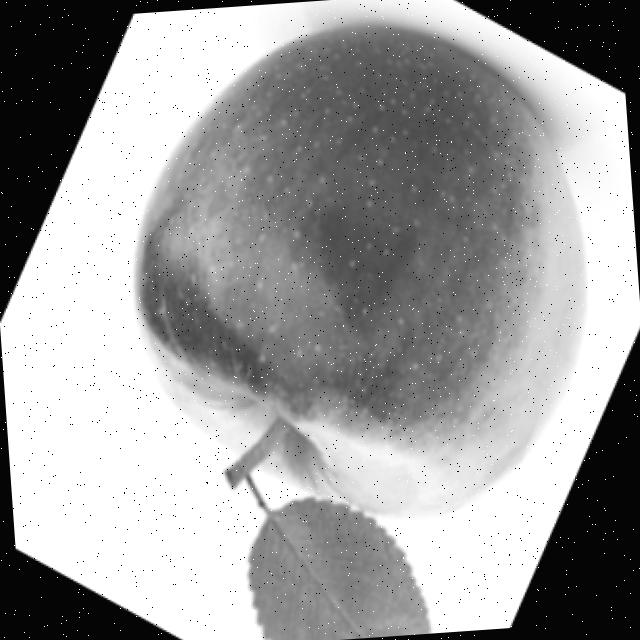Ripe: (110, 0, 608, 557)
